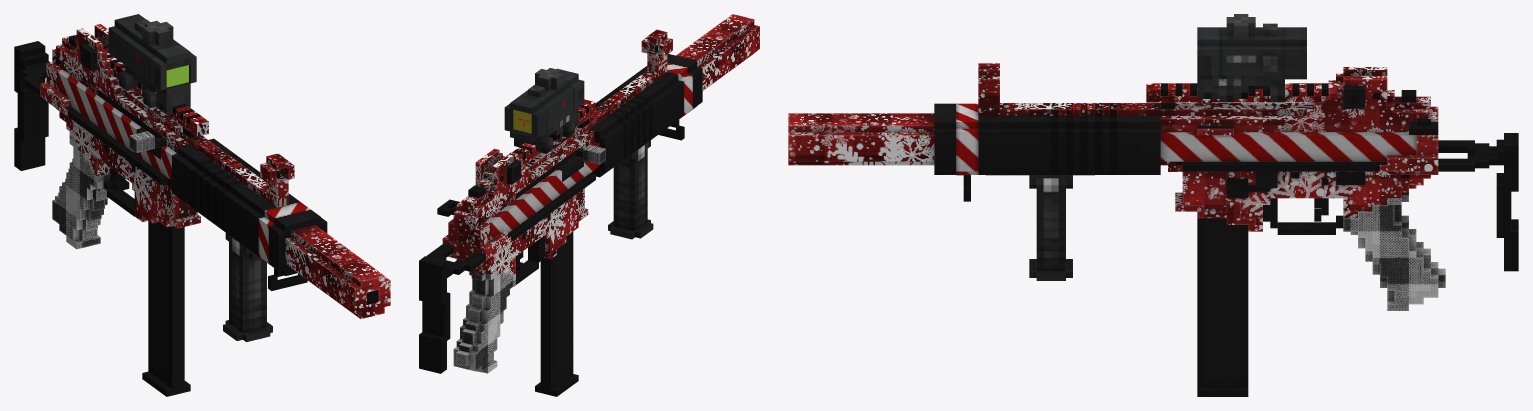
File: RD_DAEWOO_K7_NY22.glb
3 views of the same model, side by side, from view 1: azimuth 30°, elevation 25°; view 2: azimuth 150°, elevation 25°; view 3: azimuth 270°, elevation 25° (orthographic). The views are drawn at different scales.
Parts seen in each view (by area): view 1: DAEWOO_K7, DAEWOO_K7_CLIP, SCOPE_TASCO, GRIP1, SCOPE_AIMPOINT, DAEWOO_K7_BOLT; view 2: DAEWOO_K7, DAEWOO_K7_CLIP, SCOPE_TASCO, GRIP1, SCOPE_AIMPOINT, DAEWOO_K7_BOLT; view 3: DAEWOO_K7, DAEWOO_K7_CLIP, SCOPE_TASCO, GRIP1, SCOPE_AIMPOINT.
Boxes of the visible parts, x1,y1,x2,y2 form: DAEWOO_K7: (14, 24, 390, 318); DAEWOO_K7_CLIP: (142, 220, 190, 396); SCOPE_TASCO: (108, 14, 196, 107); GRIP1: (223, 233, 272, 342); SCOPE_AIMPOINT: (135, 58, 190, 114); DAEWOO_K7_BOLT: (129, 131, 166, 152); DAEWOO_K7: (419, 14, 759, 373); DAEWOO_K7_CLIP: (535, 232, 578, 396); SCOPE_TASCO: (504, 68, 584, 153); GRIP1: (608, 140, 653, 239); SCOPE_AIMPOINT: (548, 87, 584, 140); DAEWOO_K7_BOLT: (575, 145, 605, 164); DAEWOO_K7: (788, 63, 1518, 310); DAEWOO_K7_CLIP: (1197, 218, 1248, 396); SCOPE_TASCO: (1197, 14, 1306, 102); GRIP1: (986, 175, 1094, 280); SCOPE_AIMPOINT: (1197, 56, 1262, 98).
Size of the model in its own units: 0.1181 by 0.5512 by 0.9843.
6 materials, 6 textured.
